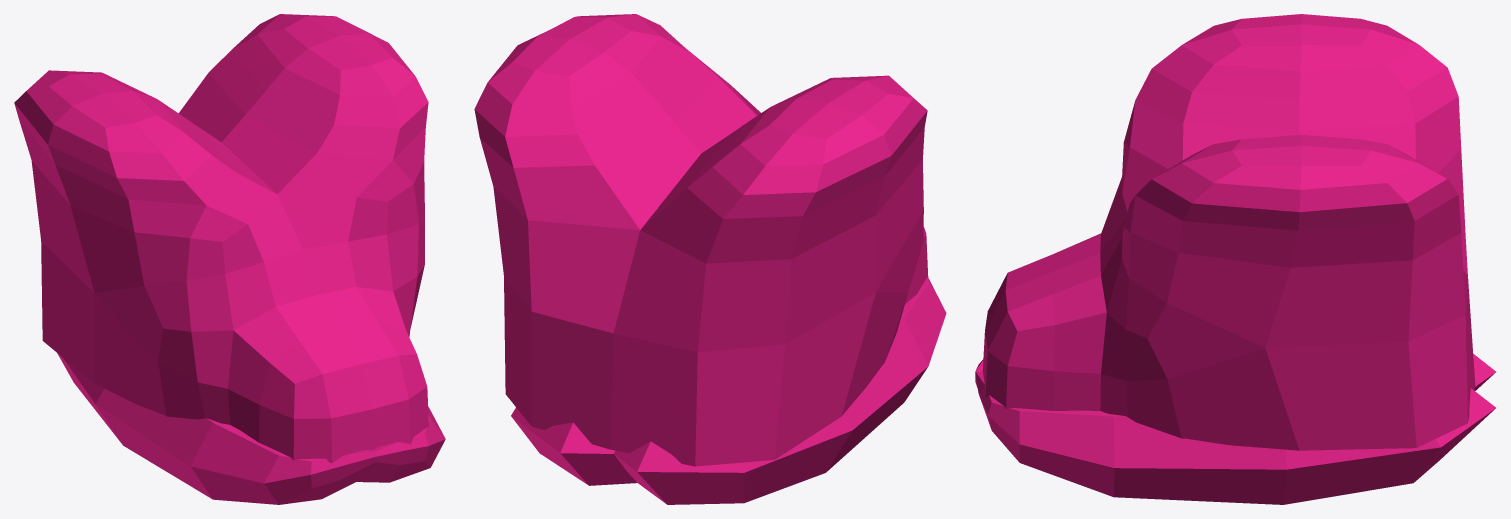
The model's file is gummybearhead.fbx.
3 views of the same model, side by side, from view 1: azimuth 30°, elevation 25°; view 2: azimuth 150°, elevation 25°; view 3: azimuth 270°, elevation 25° (orthographic). The views are drawn at different scales.
Visible parts, largest first — view 1: Cube; view 2: Cube; view 3: Cube.
Part boxes in pixels (x1,y1,x2,y2): Cube: (14, 14, 445, 504); Cube: (474, 14, 946, 504); Cube: (975, 14, 1495, 504).
Bounding box in the file's own units: 240 × 239 × 297.
